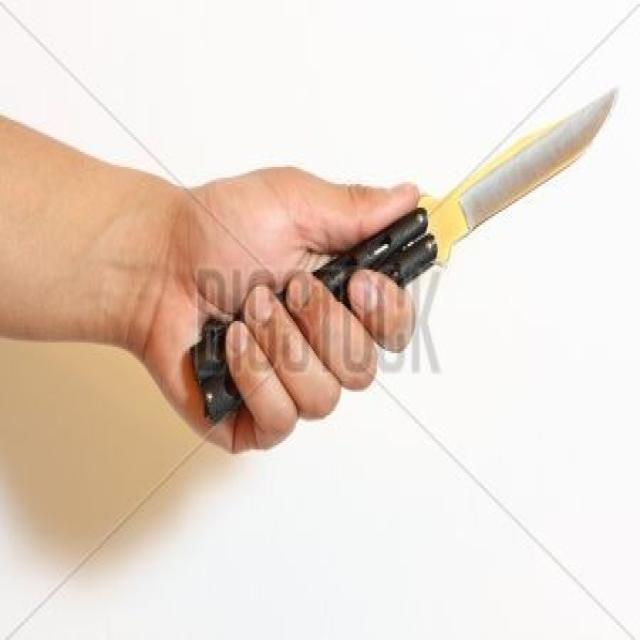knife: (189, 82, 619, 427)
